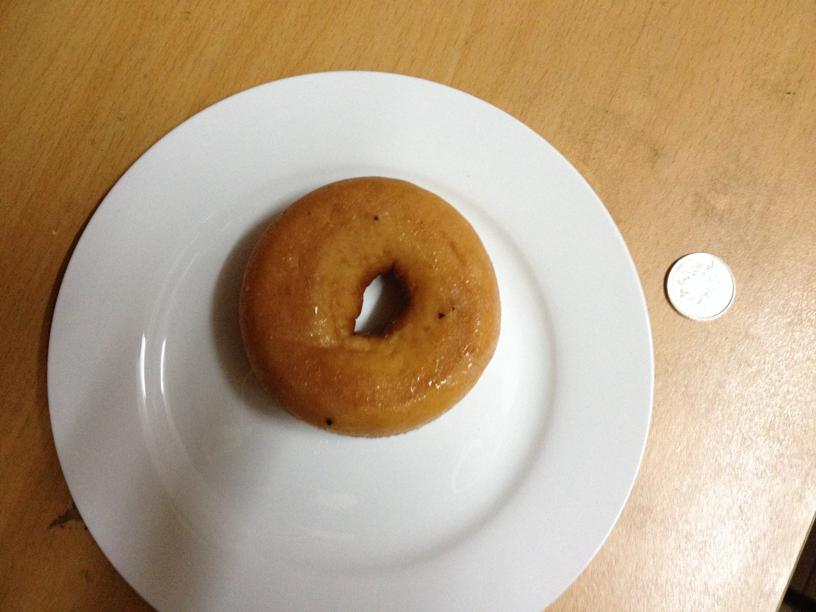coin: (664, 250, 734, 321)
doughnut: (247, 176, 500, 439)
